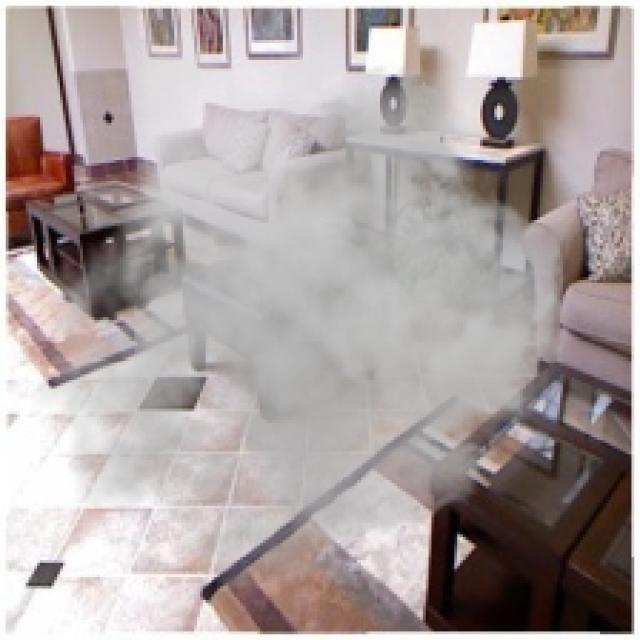smoke: (31, 54, 583, 592)
